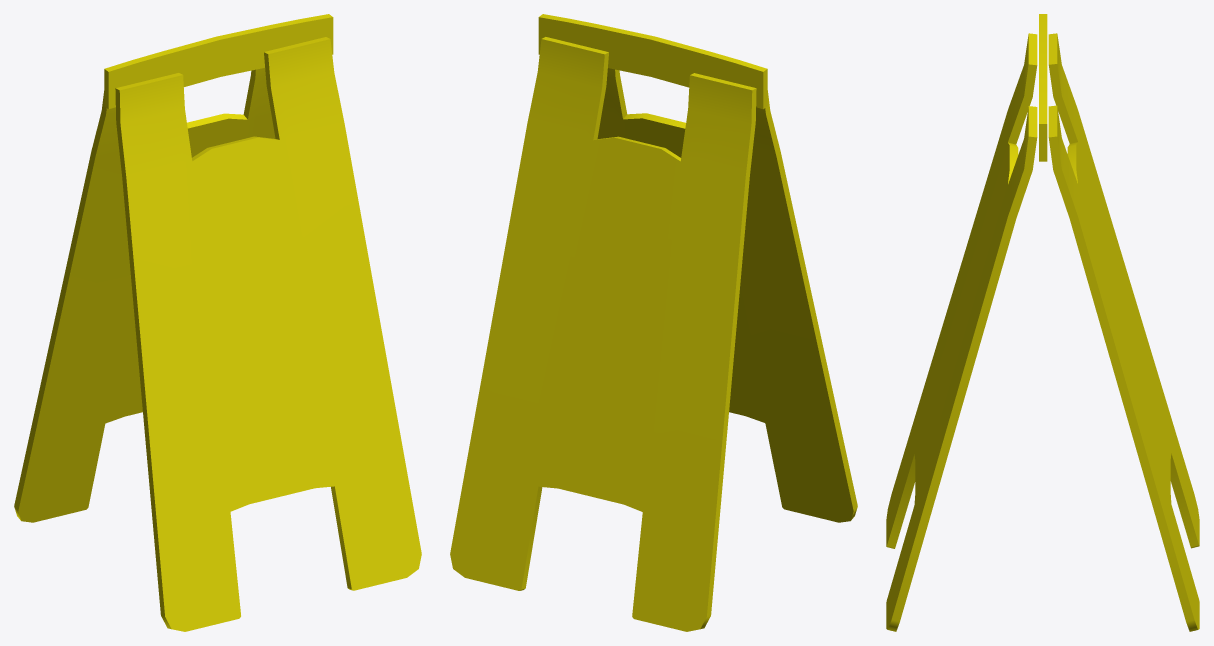
Rendered from caution_sign.fbx.
3 views of the same model, side by side, from view 1: azimuth 30°, elevation 25°; view 2: azimuth 150°, elevation 25°; view 3: azimuth 270°, elevation 25° (orthographic).
Visible parts, largest first — view 1: slipperycautionsign; view 2: slipperycautionsign; view 3: slipperycautionsign.
Part boxes in pixels (<box>): slipperycautionsign: <box>14,14,421,631</box>; slipperycautionsign: <box>450,14,857,631</box>; slipperycautionsign: <box>886,14,1199,631</box>.
Bounding box in the file's own units: 44.02 × 83.79 × 46.39.
